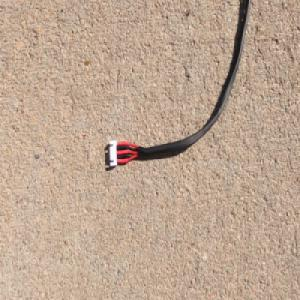Wire: (107, 0, 255, 168)
